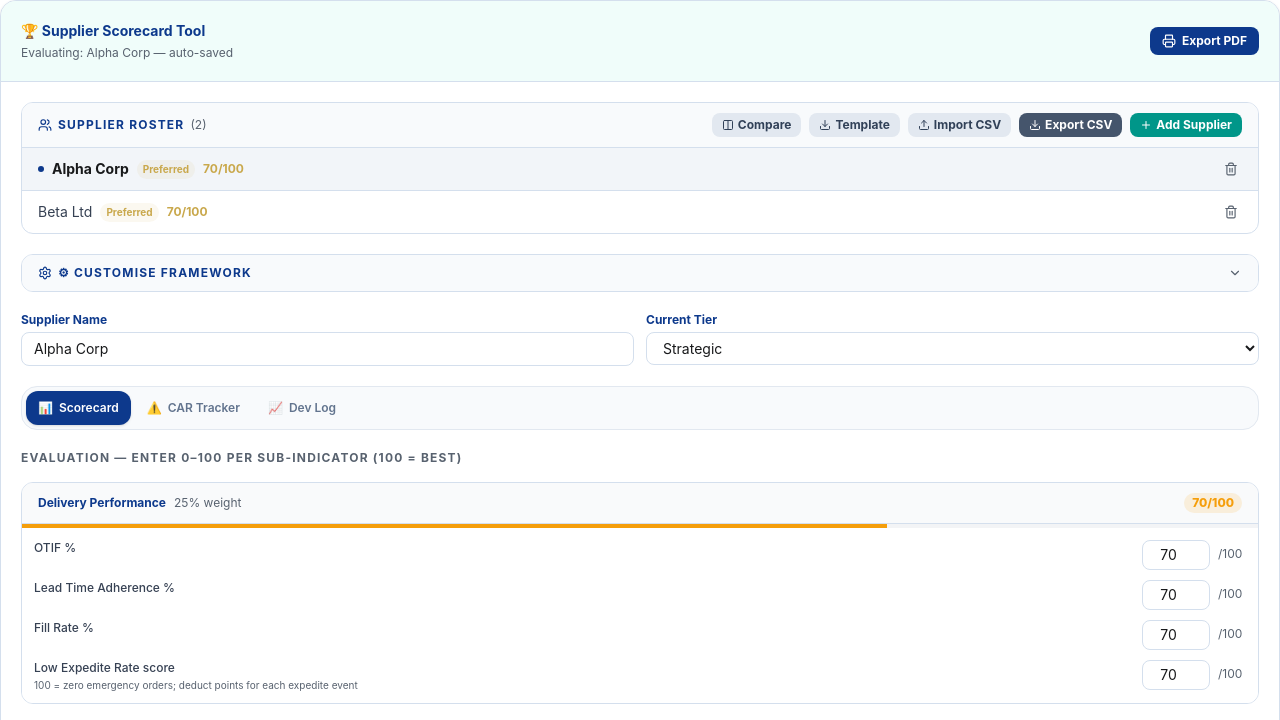
Scenario: Comparison table — Winner column, English mode › does NOT show any supplier name in a tied Winner cell
Click the button "Compare" at coordinates (757, 125), box [712, 113, 801, 137]
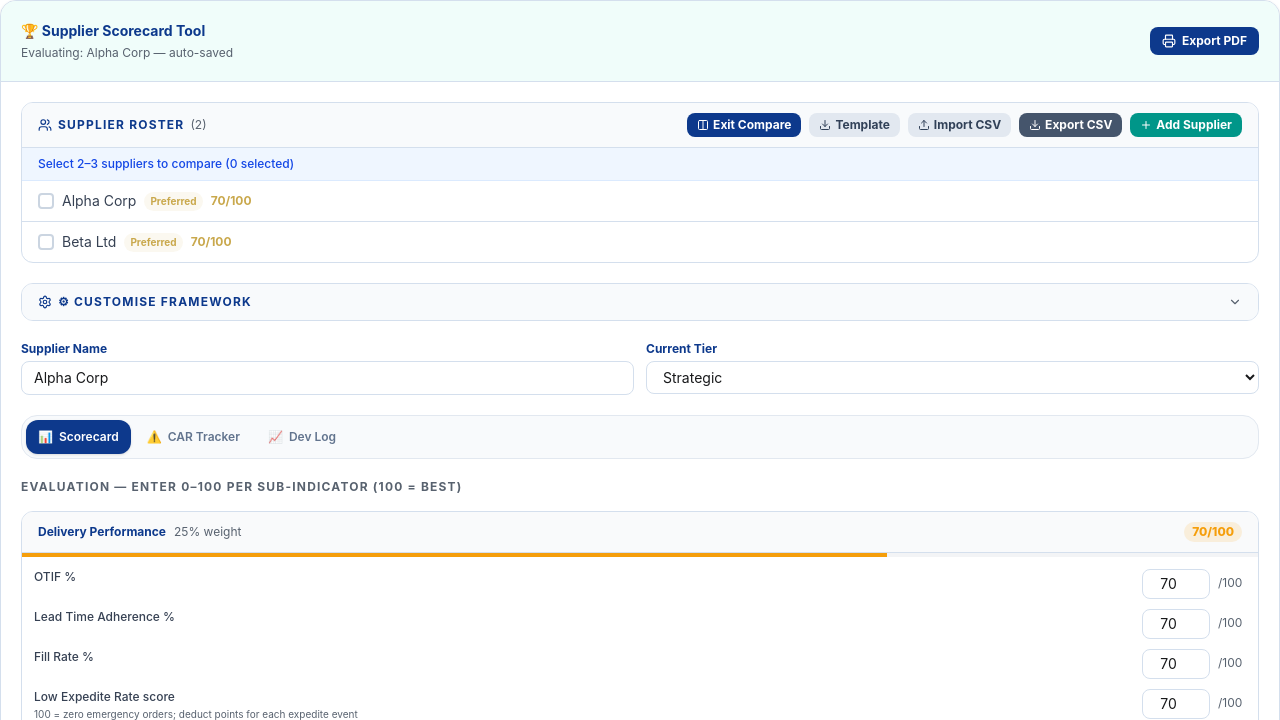
Click the text "Alpha Corp" at coordinates (99, 201), box [62, 191, 136, 211]
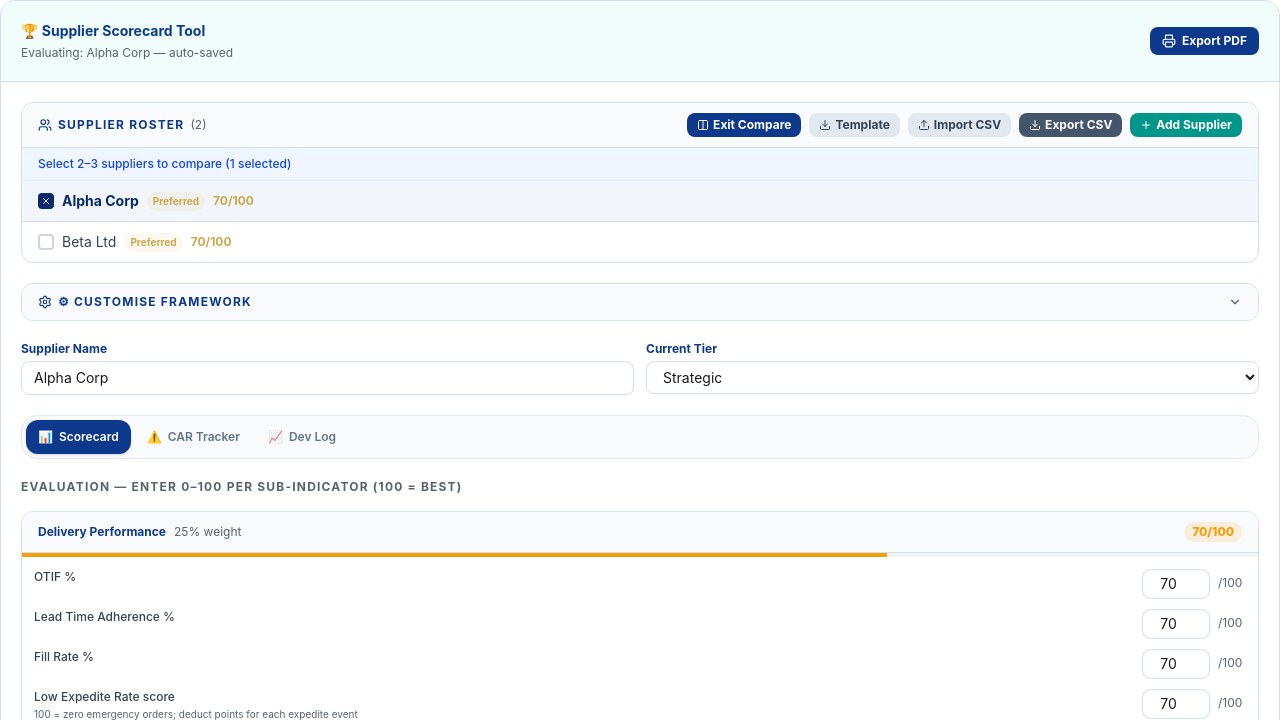
Click the text "Beta Ltd" at coordinates (89, 242), box [62, 232, 116, 252]
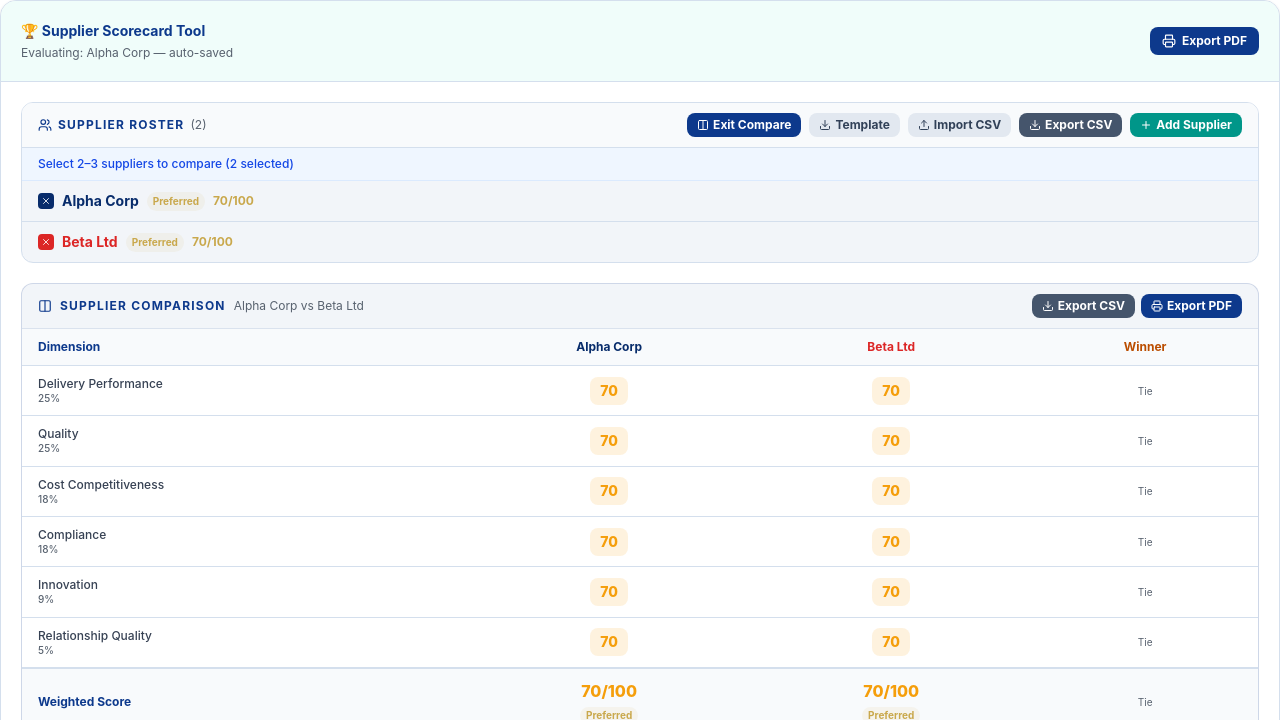
Expected: the text "Tie" does not show "Alpha Corp"
Now the column heading "Winner" is shown, box [1032, 329, 1258, 366]
